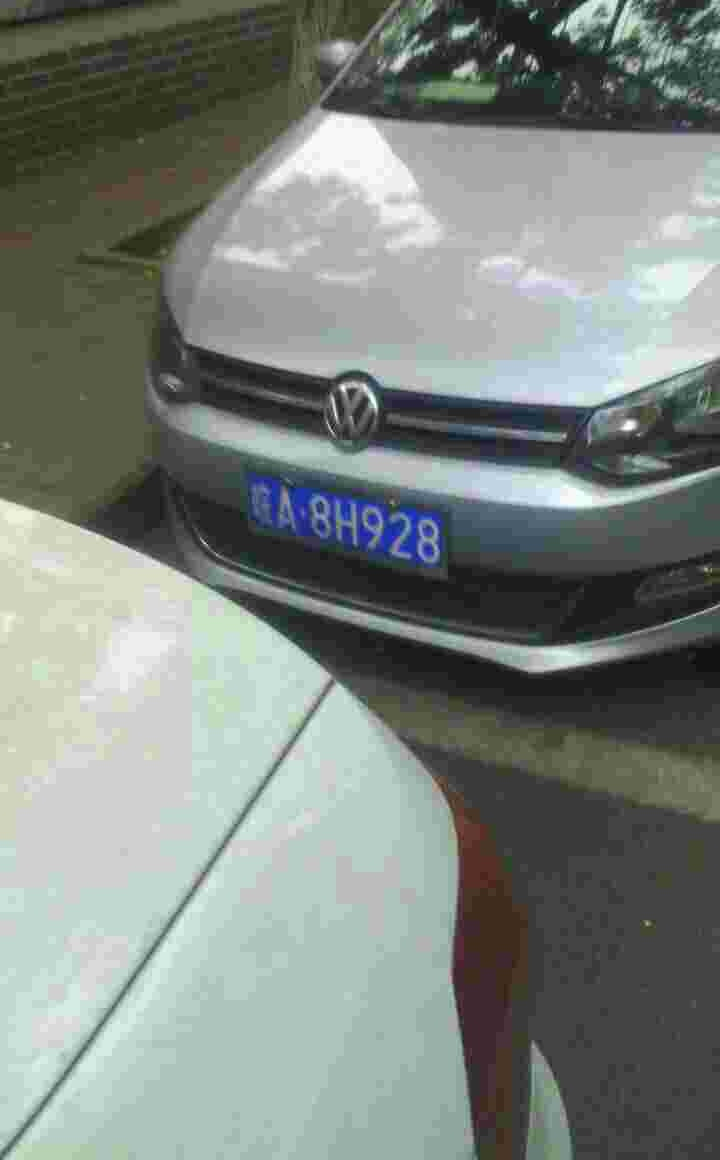license_plate: (245, 483, 453, 552)
